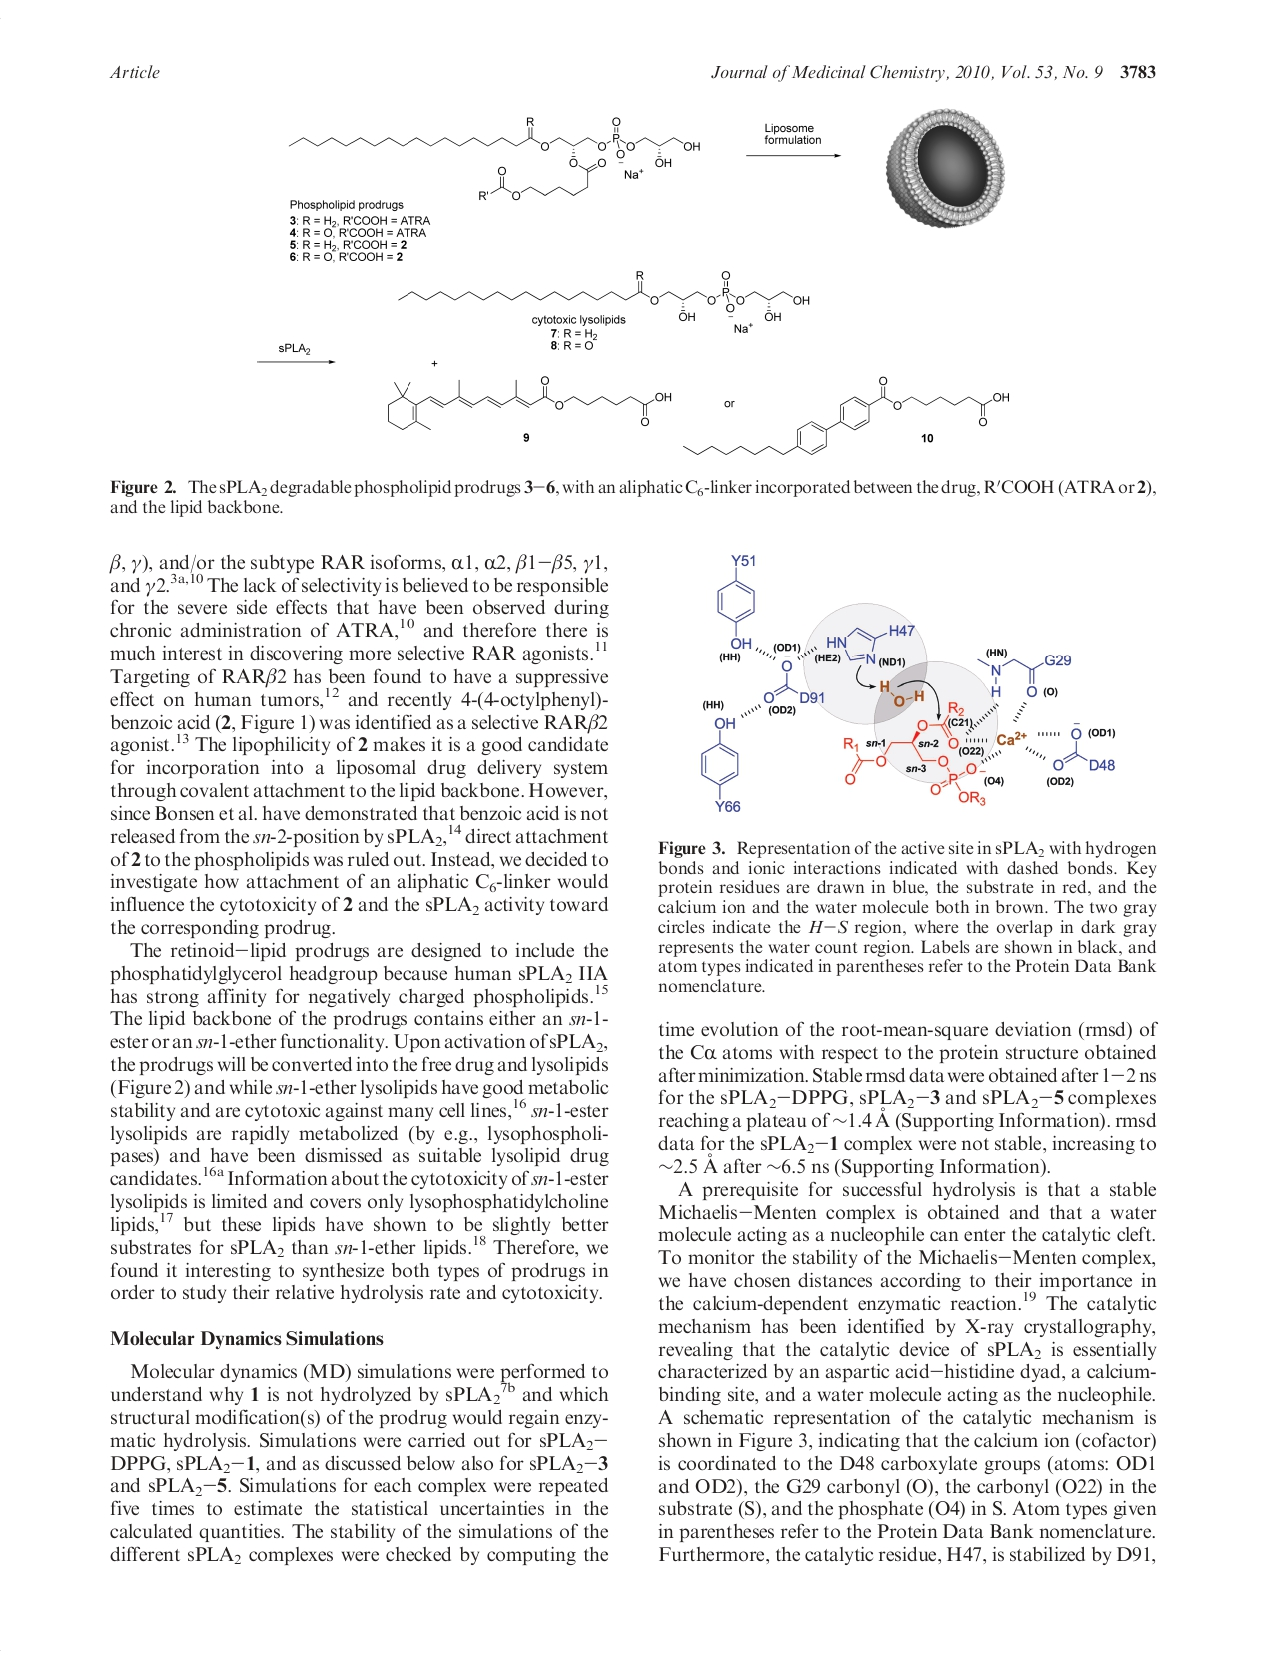exist_molecular: (690, 549, 1122, 826), (281, 114, 709, 203), (673, 368, 1024, 473), (395, 259, 830, 330), (374, 366, 674, 442)
